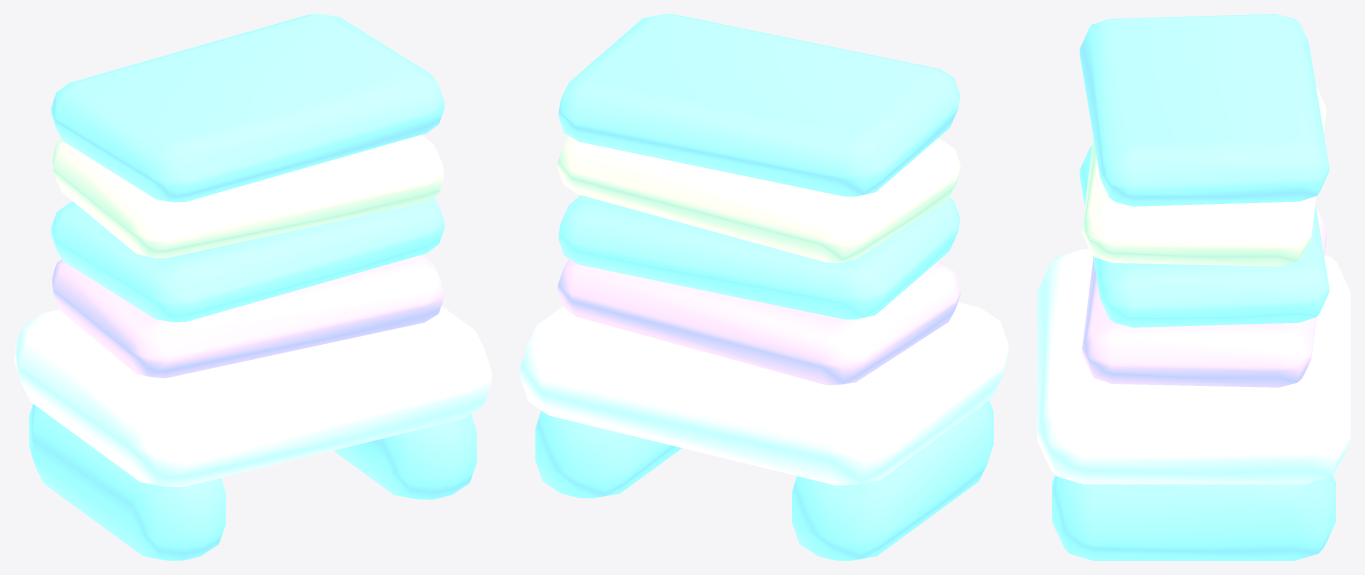
File: props__TowelStack.glb
3 renders of one model, left to right at view 1: azimuth 30°, elevation 25°; view 2: azimuth 150°, elevation 25°; view 3: azimuth 270°, elevation 25°, orthographic. The views are drawn at different scales.
Visible parts, largest first — view 1: TowelStack; view 2: TowelStack; view 3: TowelStack.
Boxes of the visible parts, bbox=[...] form: TowelStack: bbox=[14, 14, 491, 560]; TowelStack: bbox=[520, 14, 1008, 560]; TowelStack: bbox=[1037, 14, 1350, 560].
Bounding box in the file's own units: 2 × 2.19 × 1.5.
